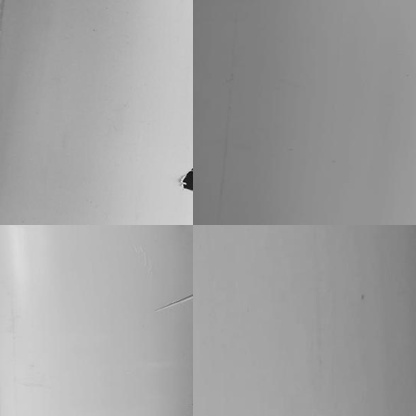kongdong: (179, 166, 196, 196)
sunshang: (156, 291, 192, 310)
